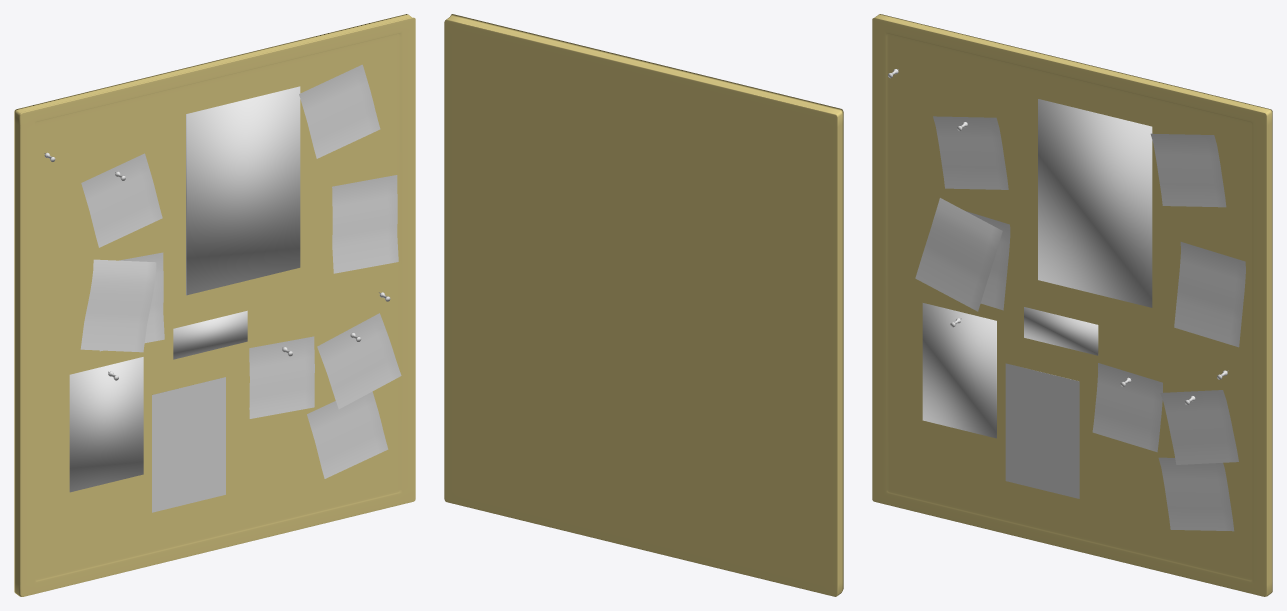
File: corcho.fbx
3 renders of one model, left to right at view 1: azimuth 30°, elevation 25°; view 2: azimuth 150°, elevation 25°; view 3: azimuth 330°, elevation 25°, orthographic.
Parts seen in each view (by area): view 1: CORCHO, PAPELES; view 2: CORCHO; view 3: CORCHO, PAPELES.
Boxes of the visible parts, x1,y1,x2,y2 form: CORCHO: (14,14,415,596); PAPELES: (44,64,401,512); CORCHO: (444,14,843,596); CORCHO: (872,14,1272,596); PAPELES: (888,69,1245,531).
Bounding box in the file's own units: 1496 × 1756 × 119.
